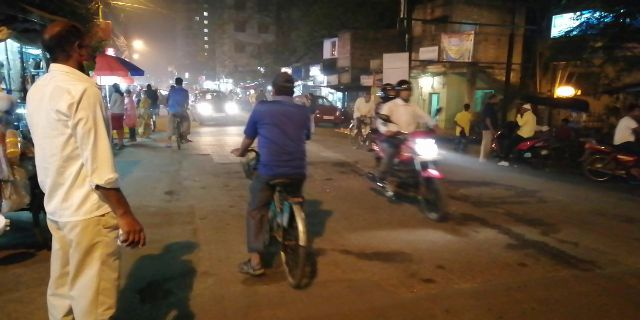Cycle: (232, 73, 323, 291)
Motorbike: (362, 80, 463, 221)
